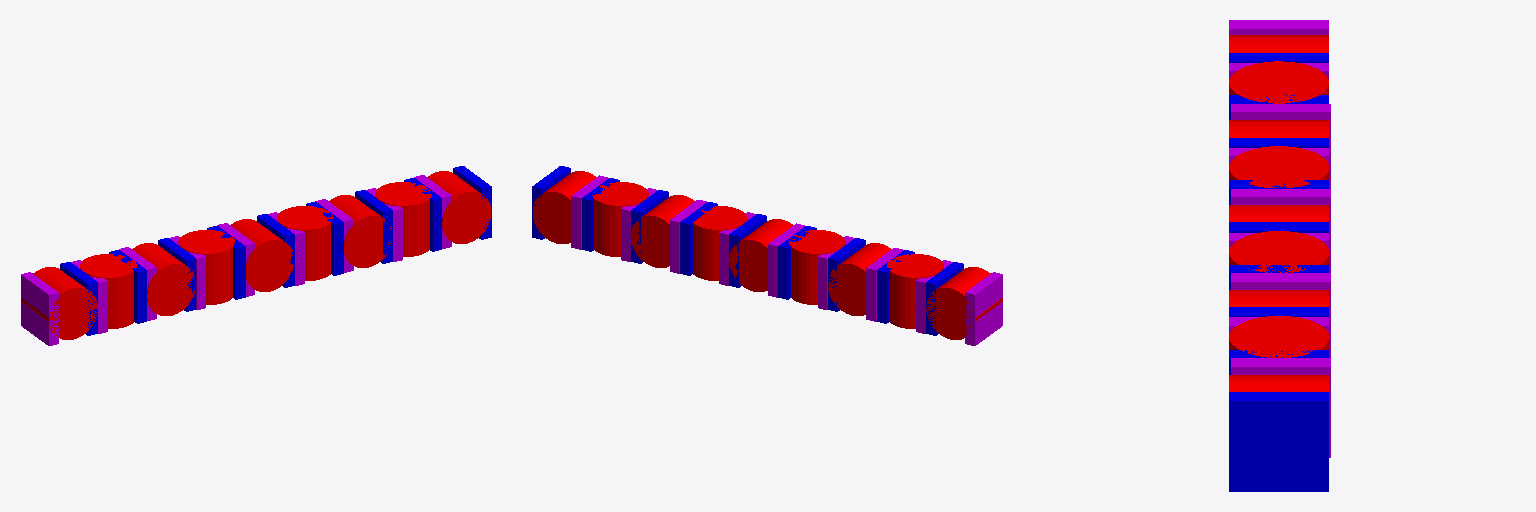
--- Facts derived from the render (not from the file) ---
The picture shows the robot from 3 angles, left to right: view 1: azimuth 30°, elevation 25°; view 2: azimuth 150°, elevation 25°; view 3: azimuth 270°, elevation 25°; orthographic projection.
Model serp with 28 links and 27 joints (9 revolute, 18 fixed), rooted at map, posed every joint at zero.
Links seen in each view (by area): view 1: cilinder9, cilinder5, cilinder3, cilinder1, cilinder4, cilinder8, cilinder7, cilinder6, cilinder2, base_link1, blue_box7, blue_box2 (+11 smaller); view 2: cilinder1, cilinder2, cilinder8, cilinder4, cilinder9, cilinder7, cilinder6, cilinder5, cilinder3, base_link1, blue_box6, blue_box4 (+15 smaller); view 3: blue_box9, cilinder2, cilinder8, cilinder4, cilinder6, base_link9, base_link7, cilinder1, cilinder3, base_link3, base_link5, cilinder5 (+9 smaller).
Link boxes in pixels (x1,y1,x2,y2): cilinder9: (427,171,490,243); cilinder5: (231,219,293,291); cilinder3: (132,243,195,315); cilinder1: (21,267,97,339); cilinder4: (178,230,234,304); cilinder8: (375,182,431,256); cilinder7: (329,195,391,267); cilinder6: (277,206,332,280); cilinder2: (80,254,136,328); base_link1: (21,272,58,345); blue_box7: (355,190,392,263); blue_box2: (109,250,146,323); cilinder1: (926,267,1002,339); cilinder2: (887,254,943,328); cilinder8: (592,182,648,256); cilinder4: (789,230,845,304); cilinder9: (533,171,596,243); cilinder7: (631,195,694,267); cilinder6: (693,206,746,280); cilinder5: (729,219,792,291); cilinder3: (828,243,891,315); base_link1: (965,272,1002,345); blue_box6: (680,202,717,275); blue_box4: (778,226,816,299); blue_box9: (1229,392,1328,491); cilinder2: (1229,61,1328,103); cilinder8: (1229,316,1328,357); cilinder4: (1229,146,1328,187); cilinder6: (1229,231,1328,272); base_link9: (1231,358,1330,457); base_link7: (1231,273,1330,357); cilinder1: (1229,35,1328,52); cilinder3: (1229,120,1328,137); base_link3: (1231,104,1330,188); base_link5: (1231,189,1330,272); cilinder5: (1229,205,1328,221).
Bounding box of the posed robot: 0.9 × 0.1016 × 0.1016 m (x, y, z).
27 mesh visuals loaded from 3 distinct referenced files (3 binary STL).

URDF robot description (serp):
<?xml version="1.0" ?>
<!-- =================================================================================== -->
<!-- |    This document was autogenerated by xacro from [local-path]/WS_ROS/ws_tfg/src/serpiente/serpiente_description/urdf/serpiente_larga.xacro | -->
<!-- |    EDITING THIS FILE BY HAND IS NOT RECOMMENDED                                 | -->
<!-- =================================================================================== -->
<robot name="serp" xmlns:xacro="http://www.ros.org/wiki/xacro">
  <link name="map">
  </link>
  <gazebo>
    <plugin filename="libgazebo_ros_control.so" name="gazebo_ros_control">
      <robotNamespace>/serp</robotNamespace>
    </plugin>
  </gazebo>
  <joint name="map" type="fixed">
    <origin rpy="0 0 0" xyz="0.01 0 0"/>
    <parent link="map"/>
    <child link="base_link1"/>
  </joint>
  <link name="base_link1">
    <inertial>
      <origin rpy="0 0 0" xyz="0.04 0 -0.0015809"/>
      <mass value="0.2"/>
      <inertia ixx="0.033333" ixy="7.6472E-21" ixz="-1.039E-21" iyy="0.017333" iyz="2.322E-21" izz="0.017333"/>
    </inertial>
    <visual>
      <origin rpy="0 0 0" xyz="0 0 0"/>
      <geometry>
        <mesh filename="package://serpiente_description/urdf/meshes_serpiente/base_link.stl"/>
        <!-- <mesh filename="file://[local-path]/catkin_ws_CromaBueno/src/croma_description/meshes/base_link.stl" /> -->
      </geometry>
      <material name="">
        <color rgba="0.79216 0 0.93333 1"/>
      </material>
    </visual>
    <collision>
      <origin rpy="0 0 0" xyz="0 0 0"/>
      <geometry>
        <mesh filename="package://serpiente_description/urdf/meshes_serpiente/base_link.stl"/>
      </geometry>
    </collision>
  </link>
  <link name="cilinder1">
    <inertial>
      <origin rpy="0 0 0" xyz="0.08 2.7756E-17 1.3293E-50"/>
      <mass value="0.7854"/>
      <inertia ixx="0.011454" ixy="2.2588E-20" ixz="3.7494E-36" iyy="0.0098175" iyz="3.7944E-36" izz="0.011454"/>
    </inertial>
    <visual>
      <origin rpy="0 0 0" xyz="0 0 0"/>
      <geometry>
        <mesh filename="package://serpiente_description/urdf/meshes_serpiente/cilinder.stl"/>
      </geometry>
      <material name="">
        <color rgba="1 0 0 1"/>
      </material>
    </visual>
    <collision>
      <origin rpy="0 0 0" xyz="0 0 0"/>
      <geometry>
        <mesh filename="package://serpiente_description/urdf/meshes_serpiente/cilinder.stl"/>
      </geometry>
    </collision>
  </link>
  <joint name="base_cilinder_joint1" type="fixed">
    <origin rpy="0 0 0" xyz="0 0 0"/>
    <parent link="base_link1"/>
    <child link="cilinder1"/>
    <axis xyz="0 0 0"/>
  </joint>
  <link name="blue_box1">
    <inertial>
      <origin rpy="0 0 0" xyz="0.04 0 2.0668E-19"/>
      <mass value="0.2"/>
      <inertia ixx="0.033333" ixy="3.4121E-21" ixz="-1.3214E-21" iyy="0.017333" iyz="2.322E-21" izz="0.017333"/>
    </inertial>
    <visual>
      <origin rpy="0 0 0" xyz="0 0 0"/>
      <geometry>
        <mesh filename="package://serpiente_description/urdf/meshes_serpiente/blue_box.stl"/>
      </geometry>
      <material name="">
        <color rgba="0 0 1 1"/>
      </material>
    </visual>
    <collision>
      <origin rpy="0 0 0" xyz="0 0 0"/>
      <geometry>
        <mesh filename="package://serpiente_description/urdf/meshes_serpiente/blue_box.stl"/>
      </geometry>
    </collision>
  </link>
  <joint name="box_cilinder_joint1" type="revolute">
    <origin rpy="0 0 0" xyz="0.05 0 0"/>
    <parent link="cilinder1"/>
    <child link="blue_box1"/>
    <axis xyz="0 1 0"/>
    <limit effort="100" lower="-2.5" upper="2.5" velocity="1000"/>
  </joint>
  <gazebo reference="base_link1">
    <material>Gazebo/Green</material>
  </gazebo>
  <gazebo reference="cilinder1">
    <material>Gazebo/Green</material>
  </gazebo>
  <gazebo reference="blue_box1">
    <material>Gazebo/Green</material>
  </gazebo>
  <transmission name="t_box_cilinder_joint1">
    <type>transmission_interface/SimpleTransmission</type>
    <joint name="box_cilinder_joint1">
      <hardwareInterface>EffortJointInterface</hardwareInterface>
    </joint>
    <actuator name="m_box_cilinder_joint1">
      <hardwareInterface>EffortJointInterface</hardwareInterface>
      <mechanicalReduction>1</mechanicalReduction>
    </actuator>
  </transmission>
  <joint name="blue_box1" type="fixed">
    <origin rpy="0 0 0" xyz="0.05 0 0"/>
    <parent link="blue_box1"/>
    <child link="base_link2"/>
  </joint>
  <link name="base_link2">
    <inertial>
      <origin rpy="0 0 0" xyz="0.08 0 -0.0015809"/>
      <mass value="0.2"/>
      <inertia ixx="0.033333" ixy="7.6472E-21" ixz="-1.039E-21" iyy="0.017333" iyz="2.322E-21" izz="0.017333"/>
    </inertial>
    <visual>
      <origin rpy="0 0 0" xyz="0 0 0"/>
      <geometry>
        <mesh filename="package://serpiente_description/urdf/meshes_serpiente/base_link.stl"/>
        <!-- <mesh filename="file://[local-path]/catkin_ws_CromaBueno/src/croma_description/meshes/base_link.stl" /> -->
      </geometry>
      <material name="">
        <color rgba="0.79216 0 0.93333 1"/>
      </material>
    </visual>
    <collision>
      <origin rpy="0 0 0" xyz="0 0 0"/>
      <geometry>
        <mesh filename="package://serpiente_description/urdf/meshes_serpiente/base_link.stl"/>
      </geometry>
    </collision>
  </link>
  <link name="cilinder2">
    <inertial>
      <origin rpy="0 0 0" xyz="0.12 2.7756E-17 1.3293E-50"/>
      <mass value="0.7854"/>
      <inertia ixx="0.011454" ixy="2.2588E-20" ixz="3.7494E-36" iyy="0.0098175" iyz="3.7944E-36" izz="0.011454"/>
    </inertial>
    <visual>
      <origin rpy="0 0 0" xyz="0 0 0"/>
      <geometry>
        <mesh filename="package://serpiente_description/urdf/meshes_serpiente/cilinder.stl"/>
      </geometry>
      <material name="">
        <color rgba="1 0 0 1"/>
      </material>
    </visual>
    <collision>
      <origin rpy="0 0 0" xyz="0 0 0"/>
      <geometry>
        <mesh filename="package://serpiente_description/urdf/meshes_serpiente/cilinder.stl"/>
      </geometry>
    </collision>
  </link>
  <joint name="base_cilinder_joint2" type="fixed">
    <origin rpy="1.57079632679 0 0" xyz="0 0 0"/>
    <parent link="base_link2"/>
    <child link="cilinder2"/>
    <axis xyz="0 0 0"/>
  </joint>
  <link name="blue_box2">
    <inertial>
      <origin rpy="0 0 0" xyz="0.04 0 2.0668E-19"/>
      <mass value="0.2"/>
      <inertia ixx="0.033333" ixy="3.4121E-21" ixz="-1.3214E-21" iyy="0.017333" iyz="2.322E-21" izz="0.017333"/>
    </inertial>
    <visual>
      <origin rpy="0 0 0" xyz="0 0 0"/>
      <geometry>
        <mesh filename="package://serpiente_description/urdf/meshes_serpiente/blue_box.stl"/>
      </geometry>
      <material name="">
        <color rgba="0 0 1 1"/>
      </material>
    </visual>
    <collision>
      <origin rpy="0 0 0" xyz="0 0 0"/>
      <geometry>
        <mesh filename="package://serpiente_description/urdf/meshes_serpiente/blue_box.stl"/>
      </geometry>
    </collision>
  </link>
  <joint name="box_cilinder_joint2" type="revolute">
    <origin rpy="0 0 0" xyz="0.05 0 0"/>
    <parent link="cilinder2"/>
    <child link="blue_box2"/>
    <axis xyz="0 1 0"/>
    <limit effort="100" lower="-2.5" upper="2.5" velocity="1000"/>
  </joint>
  <gazebo reference="base_link2">
    <material>Gazebo/Green</material>
  </gazebo>
  <gazebo reference="cilinder2">
    <material>Gazebo/Green</material>
  </gazebo>
  <gazebo reference="blue_box2">
    <material>Gazebo/Green</material>
  </gazebo>
  <transmission name="t_box_cilinder_joint2">
    <type>transmission_interface/SimpleTransmission</type>
    <joint name="box_cilinder_joint2">
      <hardwareInterface>EffortJointInterface</hardwareInterface>
    </joint>
    <actuator name="m_box_cilinder_joint2">
      <hardwareInterface>EffortJointInterface</hardwareInterface>
      <mechanicalReduction>1</mechanicalReduction>
    </actuator>
  </transmission>
  <joint name="blue_box2" type="fixed">
    <origin rpy="0 0 0" xyz="0.05 0 0"/>
    <parent link="blue_box2"/>
    <child link="base_link3"/>
  </joint>
  <link name="base_link3">
    <inertial>
      <origin rpy="0 0 0" xyz="0.08 0 -0.0015809"/>
      <mass value="0.2"/>
      <inertia ixx="0.033333" ixy="7.6472E-21" ixz="-1.039E-21" iyy="0.017333" iyz="2.322E-21" izz="0.017333"/>
    </inertial>
    <visual>
      <origin rpy="0 0 0" xyz="0 0 0"/>
      <geometry>
        <mesh filename="package://serpiente_description/urdf/meshes_serpiente/base_link.stl"/>
        <!-- <mesh filename="file://[local-path]/catkin_ws_CromaBueno/src/croma_description/meshes/base_link.stl" /> -->
      </geometry>
      <material name="">
        <color rgba="0.79216 0 0.93333 1"/>
      </material>
    </visual>
    <collision>
      <origin rpy="0 0 0" xyz="0 0 0"/>
      <geometry>
        <mesh filename="package://serpiente_description/urdf/meshes_serpiente/base_link.stl"/>
      </geometry>
    </collision>
  </link>
  <link name="cilinder3">
    <inertial>
      <origin rpy="0 0 0" xyz="0.12 2.7756E-17 1.3293E-50"/>
      <mass value="0.7854"/>
      <inertia ixx="0.011454" ixy="2.2588E-20" ixz="3.7494E-36" iyy="0.0098175" iyz="3.7944E-36" izz="0.011454"/>
    </inertial>
    <visual>
      <origin rpy="0 0 0" xyz="0 0 0"/>
      <geometry>
        <mesh filename="package://serpiente_description/urdf/meshes_serpiente/cilinder.stl"/>
      </geometry>
      <material name="">
        <color rgba="1 0 0 1"/>
      </material>
    </visual>
    <collision>
      <origin rpy="0 0 0" xyz="0 0 0"/>
      <geometry>
        <mesh filename="package://serpiente_description/urdf/meshes_serpiente/cilinder.stl"/>
      </geometry>
    </collision>
  </link>
  <joint name="base_cilinder_joint3" type="fixed">
    <origin rpy="-1.57079632679 0 0" xyz="0 0 0"/>
    <parent link="base_link3"/>
    <child link="cilinder3"/>
    <axis xyz="0 0 0"/>
  </joint>
  <link name="blue_box3">
    <inertial>
      <origin rpy="0 0 0" xyz="0.04 0 2.0668E-19"/>
      <mass value="0.2"/>
      <inertia ixx="0.033333" ixy="3.4121E-21" ixz="-1.3214E-21" iyy="0.017333" iyz="2.322E-21" izz="0.017333"/>
    </inertial>
    <visual>
      <origin rpy="0 0 0" xyz="0 0 0"/>
      <geometry>
        <mesh filename="package://serpiente_description/urdf/meshes_serpiente/blue_box.stl"/>
      </geometry>
      <material name="">
        <color rgba="0 0 1 1"/>
      </material>
    </visual>
    <collision>
      <origin rpy="0 0 0" xyz="0 0 0"/>
      <geometry>
        <mesh filename="package://serpiente_description/urdf/meshes_serpiente/blue_box.stl"/>
      </geometry>
    </collision>
  </link>
  <joint name="box_cilinder_joint3" type="revolute">
    <origin rpy="0 0 0" xyz="0.05 0 0"/>
    <parent link="cilinder3"/>
    <child link="blue_box3"/>
    <axis xyz="0 1 0"/>
    <limit effort="100" lower="-2.5" upper="2.5" velocity="1000"/>
  </joint>
  <gazebo reference="base_link3">
    <material>Gazebo/Green</material>
  </gazebo>
  <gazebo reference="cilinder3">
    <material>Gazebo/Green</material>
  </gazebo>
  <gazebo reference="blue_box3">
    <material>Gazebo/Green</material>
  </gazebo>
  <transmission name="t_box_cilinder_joint3">
    <type>transmission_interface/SimpleTransmission</type>
    <joint name="box_cilinder_joint3">
      <hardwareInterface>EffortJointInterface</hardwareInterface>
    </joint>
    <actuator name="m_box_cilinder_joint3">
      <hardwareInterface>EffortJointInterface</hardwareInterface>
      <mechanicalReduction>1</mechanicalReduction>
    </actuator>
  </transmission>
  <joint name="blue_box3" type="fixed">
    <origin rpy="0 0 0" xyz="0.05 0 0"/>
    <parent link="blue_box3"/>
    <child link="base_link4"/>
  </joint>
  <link name="base_link4">
    <inertial>
      <origin rpy="0 0 0" xyz="0.08 0 -0.0015809"/>
      <mass value="0.2"/>
      <inertia ixx="0.033333" ixy="7.6472E-21" ixz="-1.039E-21" iyy="0.017333" iyz="2.322E-21" izz="0.017333"/>
    </inertial>
    <visual>
      <origin rpy="0 0 0" xyz="0 0 0"/>
      <geometry>
        <mesh filename="package://serpiente_description/urdf/meshes_serpiente/base_link.stl"/>
        <!-- <mesh filename="file://[local-path]/catkin_ws_CromaBueno/src/croma_description/meshes/base_link.stl" /> -->
      </geometry>
      <material name="">
        <color rgba="0.79216 0 0.93333 1"/>
      </material>
    </visual>
    <collision>
      <origin rpy="0 0 0" xyz="0 0 0"/>
      <geometry>
        <mesh filename="package://serpiente_description/urdf/meshes_serpiente/base_link.stl"/>
      </geometry>
    </collision>
  </link>
  <link name="cilinder4">
    <inertial>
      <origin rpy="0 0 0" xyz="0.12 2.7756E-17 1.3293E-50"/>
      <mass value="0.7854"/>
      <inertia ixx="0.011454" ixy="2.2588E-20" ixz="3.7494E-36" iyy="0.0098175" iyz="3.7944E-36" izz="0.011454"/>
    </inertial>
    <visual>
      <origin rpy="0 0 0" xyz="0 0 0"/>
      <geometry>
        <mesh filename="package://serpiente_description/urdf/meshes_serpiente/cilinder.stl"/>
      </geometry>
      <material name="">
        <color rgba="1 0 0 1"/>
      </material>
    </visual>
    <collision>
      <origin rpy="0 0 0" xyz="0 0 0"/>
      <geometry>
        <mesh filename="package://serpiente_description/urdf/meshes_serpiente/cilinder.stl"/>
      </geometry>
    </collision>
  </link>
  <joint name="base_cilinder_joint4" type="fixed">
    <origin rpy="1.57079632679 0 0" xyz="0 0 0"/>
    <parent link="base_link4"/>
    <child link="cilinder4"/>
    <axis xyz="0 0 0"/>
  </joint>
  <link name="blue_box4">
    <inertial>
      <origin rpy="0 0 0" xyz="0.04 0 2.0668E-19"/>
      <mass value="0.2"/>
      <inertia ixx="0.033333" ixy="3.4121E-21" ixz="-1.3214E-21" iyy="0.017333" iyz="2.322E-21" izz="0.017333"/>
    </inertial>
    <visual>
      <origin rpy="0 0 0" xyz="0 0 0"/>
      <geometry>
        <mesh filename="package://serpiente_description/urdf/meshes_serpiente/blue_box.stl"/>
      </geometry>
      <material name="">
        <color rgba="0 0 1 1"/>
      </material>
    </visual>
    <collision>
      <origin rpy="0 0 0" xyz="0 0 0"/>
      <geometry>
        <mesh filename="package://serpiente_description/urdf/meshes_serpiente/blue_box.stl"/>
      </geometry>
    </collision>
  </link>
  <joint name="box_cilinder_joint4" type="revolute">
    <origin rpy="0 0 0" xyz="0.05 0 0"/>
    <parent link="cilinder4"/>
    <child link="blue_box4"/>
    <axis xyz="0 1 0"/>
    <limit effort="100" lower="-2.5" upper="2.5" velocity="1000"/>
  </joint>
  <gazebo reference="base_link4">
    <material>Gazebo/Green</material>
  </gazebo>
  <gazebo reference="cilinder4">
    <material>Gazebo/Green</material>
  </gazebo>
  <gazebo reference="blue_box4">
    <material>Gazebo/Green</material>
  </gazebo>
  <transmission name="t_box_cilinder_joint4">
    <type>transmission_interface/SimpleTransmission</type>
    <joint name="box_cilinder_joint4">
      <hardwareInterface>EffortJointInterface</hardwareInterface>
    </joint>
    <actuator name="m_box_cilinder_joint4">
      <hardwareInterface>EffortJointInterface</hardwareInterface>
      <mechanicalReduction>1</mechanicalReduction>
    </actuator>
  </transmission>
  <joint name="blue_box4" type="fixed">
    <origin rpy="0 0 0" xyz="0.05 0 0"/>
    <parent link="blue_box4"/>
    <child link="base_link5"/>
  </joint>
  <link name="base_link5">
    <inertial>
      <origin rpy="0 0 0" xyz="0.08 0 -0.0015809"/>
      <mass value="0.2"/>
      <inertia ixx="0.033333" ixy="7.6472E-21" ixz="-1.039E-21" iyy="0.017333" iyz="2.322E-21" izz="0.017333"/>
    </inertial>
    <visual>
      <origin rpy="0 0 0" xyz="0 0 0"/>
      <geometry>
        <mesh filename="package://serpiente_description/urdf/meshes_serpiente/base_link.stl"/>
        <!-- <mesh filename="file://[local-path]/catkin_ws_CromaBueno/src/croma_description/meshes/base_link.stl" /> -->
      </geometry>
      <material name="">
        <color rgba="0.79216 0 0.93333 1"/>
      </material>
    </visual>
    <collision>
      <origin rpy="0 0 0" xyz="0 0 0"/>
      <geometry>
        <mesh filename="package://serpiente_description/urdf/meshes_serpiente/base_link.stl"/>
      </geometry>
    </collision>
  </link>
  <link name="cilinder5">
    <inertial>
      <origin rpy="0 0 0" xyz="0.12 2.7756E-17 1.3293E-50"/>
      <mass value="0.7854"/>
      <inertia ixx="0.011454" ixy="2.2588E-20" ixz="3.7494E-36" iyy="0.0098175" iyz="3.7944E-36" izz="0.011454"/>
    </inertial>
    <visual>
      <origin rpy="0 0 0" xyz="0 0 0"/>
      <geometry>
        <mesh filename="package://serpiente_description/urdf/meshes_serpiente/cilinder.stl"/>
      </geometry>
      <material name="">
        <color rgba="1 0 0 1"/>
      </material>
    </visual>
    <collision>
      <origin rpy="0 0 0" xyz="0 0 0"/>
      <geometry>
        <mesh filename="package://serpiente_description/urdf/meshes_serpiente/cilinder.stl"/>
      </geometry>
    </collision>
  </link>
  <joint name="base_cilinder_joint5" type="fixed">
    <origin rpy="-1.57079632679 0 0" xyz="0 0 0"/>
    <parent link="base_link5"/>
    <child link="cilinder5"/>
    <axis xyz="0 0 0"/>
  </joint>
  <link name="blue_box5">
    <inertial>
      <origin rpy="0 0 0" xyz="0.04 0 2.0668E-19"/>
      <mass value="0.2"/>
      <inertia ixx="0.033333" ixy="3.4121E-21" ixz="-1.3214E-21" iyy="0.017333" iyz="2.322E-21" izz="0.017333"/>
    </inertial>
    <visual>
      <origin rpy="0 0 0" xyz="0 0 0"/>
      <geometry>
        <mesh filename="package://serpiente_description/urdf/meshes_serpiente/blue_box.stl"/>
      </geometry>
      <material name="">
        <color rgba="0 0 1 1"/>
      </material>
    </visual>
    <collision>
      <origin rpy="0 0 0" xyz="0 0 0"/>
      <geometry>
        <mesh filename="package://serpiente_description/urdf/meshes_serpiente/blue_box.stl"/>
      </geometry>
    </collision>
  </link>
  <joint name="box_cilinder_joint5" type="revolute">
    <origin rpy="0 0 0" xyz="0.05 0 0"/>
    <parent link="cilinder5"/>
    <child link="blue_box5"/>
    <axis xyz="0 1 0"/>
    <limit effort="100" lower="-2.5" upper="2.5" velocity="1000"/>
  </joint>
  <gazebo reference="base_link5">
    <material>Gazebo/Green</material>
  </gazebo>
  <gazebo reference="cilinder5">
    <material>Gazebo/Green</material>
  </gazebo>
  <gazebo reference="blue_box5">
    <material>Gazebo/Green</material>
  </gazebo>
  <transmission name="t_box_cilinder_joint5">
    <type>transmission_interface/SimpleTransmission</type>
    <joint name="box_cilinder_joint5">
      <hardwareInterface>EffortJointInterface</hardwareInterface>
    </joint>
    <actuator name="m_box_cilinder_joint5">
      <hardwareInterface>EffortJointInterface</hardwareInterface>
      <mechanicalReduction>1</mechanicalReduction>
    </actuator>
  </transmission>
  <joint name="blue_box5" type="fixed">
    <origin rpy="0 0 0" xyz="0.05 0 0"/>
    <parent link="blue_box5"/>
    <child link="base_link6"/>
  </joint>
  <link name="base_link6">
    <inertial>
      <origin rpy="0 0 0" xyz="0.08 0 -0.0015809"/>
      <mass value="0.2"/>
      <inertia ixx="0.033333" ixy="7.6472E-21" ixz="-1.039E-21" iyy="0.017333" iyz="2.322E-21" izz="0.017333"/>
    </inertial>
    <visual>
      <origin rpy="0 0 0" xyz="0 0 0"/>
      <geometry>
        <mesh filename="package://serpiente_description/urdf/meshes_serpiente/base_link.stl"/>
        <!-- <mesh filename="file://[local-path]/catkin_ws_CromaBueno/src/croma_description/meshes/base_link.stl" /> -->
      </geometry>
      <material name="">
        <color rgba="0.79216 0 0.93333 1"/>
      </material>
    </visual>
    <collision>
      <origin rpy="0 0 0" xyz="0 0 0"/>
      <geometry>
        <mesh filename="package://serpiente_description/urdf/meshes_serpiente/base_link.stl"/>
      </geometry>
    </collision>
  </link>
  <link name="cilinder6">
    <inertial>
      <origin rpy="0 0 0" xyz="0.12 2.7756E-17 1.3293E-50"/>
      <mass value="0.7854"/>
      <inertia ixx="0.011454" ixy="2.2588E-20" ixz="3.7494E-36" iyy="0.0098175" iyz="3.7944E-36" izz="0.011454"/>
    </inertial>
    <visual>
      <origin rpy="0 0 0" xyz="0 0 0"/>
      <geometry>
        <mesh filename="package://serpiente_description/urdf/meshes_serpiente/cilinder.stl"/>
      </geometry>
      <material name="">
        <color rgba="1 0 0 1"/>
      </material>
    </visual>
    <collision>
      <origin rpy="0 0 0" xyz="0 0 0"/>
      <geometry>
        <mesh filename="package://serpiente_description/urdf/meshes_serpiente/cilinder.stl"/>
      </geometry>
    </collision>
  </link>
  <joint name="base_cilinder_joint6" type="fixed">
    <origin rpy="1.57079632679 0 0" xyz="0 0 0"/>
    <parent link="base_link6"/>
    <child link="cilinder6"/>
    <axis xyz="0 0 0"/>
  </joint>
  <link name="blue_box6">
    <inertial>
      <origin rpy="0 0 0" xyz="0.04 0 2.0668E-19"/>
      <mass value="0.2"/>
      <inertia ixx="0.033333" ixy="3.4121E-21" ixz="-1.3214E-21" iyy="0.017333" iyz="2.322E-21" izz="0.017333"/>
    </inertial>
    <visual>
      <origin rpy="0 0 0" xyz="0 0 0"/>
      <geometry>
        <mesh filename="package://serpiente_description/urdf/meshes_serpiente/blue_box.stl"/>
      </geometry>
      <material name="">
        <color rgba="0 0 1 1"/>
      </material>
    </visual>
    <collision>
      <origin rpy="0 0 0" xyz="0 0 0"/>
      <geometry>
        <mesh filename="package://serpiente_description/urdf/meshes_serpiente/blue_box.stl"/>
      </geometry>
    </collision>
  </link>
  <joint name="box_cilinder_joint6" type="revolute">
    <origin rpy="0 0 0" xyz="0.05 0 0"/>
    <parent link="cilinder6"/>
    <child link="blue_box6"/>
    <axis xyz="0 1 0"/>
    <limit effort="100" lower="-2.5" upper="2.5" velocity="1000"/>
  </joint>
  <gazebo reference="base_link6">
    <material>Gazebo/Green</material>
  </gazebo>
  <gazebo reference="cilinder6">
    <material>Gazebo/Green</material>
  </gazebo>
  <gazebo reference="blue_box6">
    <material>Gazebo/Green</material>
  </gazebo>
  <transmission name="t_box_cilinder_joint6">
    <type>transmission_interface/SimpleTransmission</type>
    <joint name="box_cilinder_joint6">
      <hardwareInterface>EffortJointInterface</hardwareInterface>
    </joint>
    <actuator name="m_box_cilinder_joint6">
      <hardwareInterface>EffortJointInterface</hardwareInterface>
      <mechanicalReduction>1</mechanicalReduction>
    </actuator>
  </transmission>
  <joint name="blue_box6" type="fixed">
    <origin rpy="0 0 0" xyz="0.05 0 0"/>
    <parent link="blue_box6"/>
    <child link="base_link7"/>
  </joint>
  <link name="base_link7">
    <inertial>
      <origin rpy="0 0 0" xyz="0.08 0 -0.0015809"/>
      <mass value="0.2"/>
      <inertia ixx="0.033333" ixy="7.6472E-21" ixz="-1.039E-21" iyy="0.017333" iyz="2.322E-21" izz="0.017333"/>
    </inertial>
    <visual>
      <origin rpy="0 0 0" xyz="0 0 0"/>
      <geometry>
        <mesh filename="package://serpiente_description/urdf/meshes_serpiente/base_link.stl"/>
        <!-- <mesh filename="file://[local-path]/catkin_ws_CromaBueno/src/croma_description/meshes/base_link.stl" /> -->
      </geometry>
      <material name="">
        <color rgba="0.79216 0 0.93333 1"/>
      </material>
    </visual>
    <collision>
      <origin rpy="0 0 0" xyz="0 0 0"/>
      <geometry>
        <mesh filename="package://serpiente_description/urdf/meshes_serpiente/base_link.stl"/>
      </geometry>
    </collision>
  </link>
  <link name="cilinder7">
    <inertial>
      <origin rpy="0 0 0" xyz="0.12 2.7756E-17 1.3293E-50"/>
      <mass value="0.7854"/>
      <inertia ixx="0.011454" ixy="2.2588E-20" ixz="3.7494E-36" iyy="0.0098175" iyz="3.7944E-36" izz="0.011454"/>
    </inertial>
    <visual>
      <origin rpy="0 0 0" xyz="0 0 0"/>
      <geometry>
        <mesh filename="package://serpiente_description/urdf/meshes_serpiente/cilinder.stl"/>
      </geometry>
      <material name="">
        <color rgba="1 0 0 1"/>
      </material>
    </visual>
    <collision>
      <origin rpy="0 0 0" xyz="0 0 0"/>
      <geometry>
        <mesh filename="package://serpiente_description/urdf/meshes_serpiente/cilinder.stl"/>
      </geometry>
    </collision>
  </link>
  <joint name="base_cilinder_joint7" type="fixed">
    <origin rpy="-1.57079632679 0 0" xyz="0 0 0"/>
    <parent link="base_link7"/>
    <child link="cilinder7"/>
    <axis xyz="0 0 0"/>
  </joint>
  <link name="blue_box7">
    <inertial>
      <origin rpy="0 0 0" xyz="0.04 0 2.0668E-19"/>
      <mass value="0.2"/>
      <inertia ixx="0.033333" ixy="3.4121E-21" ixz="-1.3214E-21" iyy="0.017333" iyz="2.322E-21" izz="0.017333"/>
    </inertial>
    <visual>
      <origin rpy="0 0 0" xyz="0 0 0"/>
      <geometry>
        <mesh filename="package://serpiente_description/urdf/meshes_serpiente/blue_box.stl"/>
      </geometry>
      <material name="">
        <color rgba="0 0 1 1"/>
      </material>
    </visual>
    <collision>
      <origin rpy="0 0 0" xyz="0 0 0"/>
      <geometry>
        <mesh filename="package://serpiente_description/urdf/meshes_serpiente/blue_box.stl"/>
      </geometry>
    </collision>
  </link>
  <joint name="box_cilinder_joint7" type="revolute">
    <origin rpy="0 0 0" xyz="0.05 0 0"/>
    <parent link="cilinder7"/>
    <child link="blue_box7"/>
    <axis xyz="0 1 0"/>
    <limit effort="100" lower="-2.5" upper="2.5" velocity="1000"/>
  </joint>
  <gazebo reference="base_link7">
    <material>Gazebo/Green</material>
  </gazebo>
  <gazebo reference="cilinder7">
    <material>Gazebo/Green</material>
  </gazebo>
  <gazebo reference="blue_box7">
    <material>Gazebo/Green</material>
  </gazebo>
  <transmission name="t_box_cilinder_joint7">
    <type>transmission_interface/SimpleTransmission</type>
    <joint name="box_cilinder_joint7">
      <hardwareInterface>EffortJointInterface</hardwareInterface>
    </joint>
    <actuator name="m_box_cilinder_joint7">
      <hardwareInterface>EffortJointInterface</hardwareInterface>
      <mechanicalReduction>1</mechanicalReduction>
    </actuator>
  </transmission>
  <joint name="blue_box7" type="fixed">
    <origin rpy="0 0 0" xyz="0.05 0 0"/>
    <parent link="blue_box7"/>
    <child link="base_link8"/>
  </joint>
  <link name="base_link8">
    <inertial>
      <origin rpy="0 0 0" xyz="0.08 0 -0.0015809"/>
      <mass value="0.2"/>
      <inertia ixx="0.033333" ixy="7.6472E-21" ixz="-1.039E-21" iyy="0.017333" iyz="2.322E-21" izz="0.017333"/>
    </inertial>
    <visual>
      <origin rpy="0 0 0" xyz="0 0 0"/>
      <geometry>
        <mesh filename="package://serpiente_description/urdf/meshes_serpiente/base_link.stl"/>
        <!-- <mesh filename="file://[local-path]/catkin_ws_CromaBueno/src/croma_description/meshes/base_link.stl" /> -->
      </geometry>
      <material name="">
        <color rgba="0.79216 0 0.93333 1"/>
      </material>
    </visual>
    <collision>
      <origin rpy="0 0 0" xyz="0 0 0"/>
      <geometry>
        <mesh filename="package://serpiente_description/urdf/meshes_serpiente/base_link.stl"/>
      </geometry>
    </collision>
  </link>
  <link name="cilinder8">
    <inertial>
      <origin rpy="0 0 0" xyz="0.12 2.7756E-17 1.3293E-50"/>
      <mass value="0.7854"/>
      <inertia ixx="0.011454" ixy="2.2588E-20" ixz="3.7494E-36" iyy="0.0098175" iyz="3.7944E-36" izz="0.011454"/>
    </inertial>
    <visual>
      <origin rpy="0 0 0" xyz="0 0 0"/>
      <geometry>
        <mesh filename="package://serpiente_description/urdf/meshes_serpiente/cilinder.stl"/>
      </geometry>
      <material name="">
        <color rgba="1 0 0 1"/>
      </material>
    </visual>
    <collision>
      <origin rpy="0 0 0" xyz="0 0 0"/>
      <geometry>
        <mesh filename="package://serpiente_description/urdf/meshes_serpiente/cilinder.stl"/>
      </geometry>
    </collision>
  </link>
  <joint name="base_cilinder_joint8" type="fixed">
    <origin rpy="1.57079632679 0 0" xyz="0 0 0"/>
    <parent link="base_link8"/>
    <child link="cilinder8"/>
    <axis xyz="0 0 0"/>
  </joint>
  <link name="blue_box8">
    <inertial>
      <origin rpy="0 0 0" xyz="0.04 0 2.0668E-19"/>
      <mass value="0.2"/>
      <inertia ixx="0.033333" ixy="3.4121E-21" ixz="-1.3214E-21" iyy="0.017333" iyz="2.322E-21" izz="0.017333"/>
    </inertial>
    <visual>
      <origin rpy="0 0 0" xyz="0 0 0"/>
      <geometry>
        <mesh filename="package://serpiente_description/urdf/meshes_serpiente/blue_box.stl"/>
      </geometry>
      <material name="">
        <color rgba="0 0 1 1"/>
      </material>
    </visual>
    <collision>
      <origin rpy="0 0 0" xyz="0 0 0"/>
      <geometry>
        <mesh filename="package://serpiente_description/urdf/meshes_serpiente/blue_box.stl"/>
      </geometry>
    </collision>
  </link>
  <joint name="box_cilinder_joint8" type="revolute">
    <origin rpy="0 0 0" xyz="0.05 0 0"/>
    <parent link="cilinder8"/>
    <child link="blue_box8"/>
    <axis xyz="0 1 0"/>
    <limit effort="100" lower="-2.5" upper="2.5" velocity="1000"/>
  </joint>
  <gazebo reference="base_link8">
    <material>Gazebo/Green</material>
  </gazebo>
  <gazebo reference="cilinder8">
    <material>Gazebo/Green</material>
  </gazebo>
  <gazebo reference="blue_box8">
    <material>Gazebo/Green</material>
  </gazebo>
  <transmission name="t_box_cilinder_joint8">
    <type>transmission_interface/SimpleTransmission</type>
    <joint name="box_cilinder_joint8">
      <hardwareInterface>EffortJointInterface</hardwareInterface>
    </joint>
    <actuator name="m_box_cilinder_joint8">
      <hardwareInterface>EffortJointInterface</hardwareInterface>
      <mechanicalReduction>1</mechanicalReduction>
    </actuator>
  </transmission>
  <joint name="blue_box8" type="fixed">
    <origin rpy="0 0 0" xyz="0.05 0 0"/>
    <parent link="blue_box8"/>
    <child link="base_link9"/>
  </joint>
  <link name="base_link9">
    <inertial>
      <origin rpy="0 0 0" xyz="0.08 0 -0.0015809"/>
      <mass value="0.2"/>
      <inertia ixx="0.033333" ixy="7.6472E-21" ixz="-1.039E-21" iyy="0.017333" iyz="2.322E-21" izz="0.017333"/>
    </inertial>
    <visual>
      <origin rpy="0 0 0" xyz="0 0 0"/>
      <geometry>
        <mesh filename="package://serpiente_description/urdf/meshes_serpiente/base_link.stl"/>
        <!-- <mesh filename="file://[local-path]/catkin_ws_CromaBueno/src/croma_description/meshes/base_link.stl" /> -->
      </geometry>
      <material name="">
        <color rgba="0.79216 0 0.93333 1"/>
      </material>
    </visual>
    <collision>
      <origin rpy="0 0 0" xyz="0 0 0"/>
      <geometry>
        <mesh filename="package://serpiente_description/urdf/meshes_serpiente/base_link.stl"/>
      </geometry>
    </collision>
  </link>
  <link name="cilinder9">
    <inertial>
      <origin rpy="0 0 0" xyz="0.12 2.7756E-17 1.3293E-50"/>
      <mass value="0.7854"/>
      <inertia ixx="0.011454" ixy="2.2588E-20" ixz="3.7494E-36" iyy="0.0098175" iyz="3.7944E-36" izz="0.011454"/>
    </inertial>
    <visual>
      <origin rpy="0 0 0" xyz="0 0 0"/>
      <geometry>
        <mesh filename="package://serpiente_description/urdf/meshes_serpiente/cilinder.stl"/>
      </geometry>
      <material name="">
        <color rgba="1 0 0 1"/>
      </material>
    </visual>
    <collision>
      <origin rpy="0 0 0" xyz="0 0 0"/>
      <geometry>
        <mesh filename="package://serpiente_description/urdf/meshes_serpiente/cilinder.stl"/>
      </geometry>
    </collision>
  </link>
  <joint name="base_cilinder_joint9" type="fixed">
    <origin rpy="-1.57079632679 0 0" xyz="0 0 0"/>
    <parent link="base_link9"/>
    <child link="cilinder9"/>
    <axis xyz="0 0 0"/>
  </joint>
  <link name="blue_box9">
    <inertial>
      <origin rpy="0 0 0" xyz="0.04 0 2.0668E-19"/>
      <mass value="0.2"/>
      <inertia ixx="0.033333" ixy="3.4121E-21" ixz="-1.3214E-21" iyy="0.017333" iyz="2.322E-21" izz="0.017333"/>
    </inertial>
    <visual>
      <origin rpy="0 0 0" xyz="0 0 0"/>
      <geometry>
        <mesh filename="package://serpiente_description/urdf/meshes_serpiente/blue_box.stl"/>
      </geometry>
      <material name="">
        <color rgba="0 0 1 1"/>
      </material>
    </visual>
    <collision>
      <origin rpy="0 0 0" xyz="0 0 0"/>
      <geometry>
        <mesh filename="package://serpiente_description/urdf/meshes_serpiente/blue_box.stl"/>
      </geometry>
    </collision>
  </link>
  <joint name="box_cilinder_joint9" type="revolute">
    <origin rpy="0 0 0" xyz="0.05 0 0"/>
    <parent link="cilinder9"/>
    <child link="blue_box9"/>
    <axis xyz="0 1 0"/>
    <limit effort="100" lower="-2.5" upper="2.5" velocity="1000"/>
  </joint>
  <gazebo reference="base_link9">
    <material>Gazebo/Green</material>
  </gazebo>
  <gazebo reference="cilinder9">
    <material>Gazebo/Green</material>
  </gazebo>
  <gazebo reference="blue_box9">
    <material>Gazebo/Green</material>
  </gazebo>
  <transmission name="t_box_cilinder_joint9">
    <type>transmission_interface/SimpleTransmission</type>
    <joint name="box_cilinder_joint9">
      <hardwareInterface>EffortJointInterface</hardwareInterface>
    </joint>
    <actuator name="m_box_cilinder_joint9">
      <hardwareInterface>EffortJointInterface</hardwareInterface>
      <mechanicalReduction>1</mechanicalReduction>
    </actuator>
  </transmission>
</robot>
